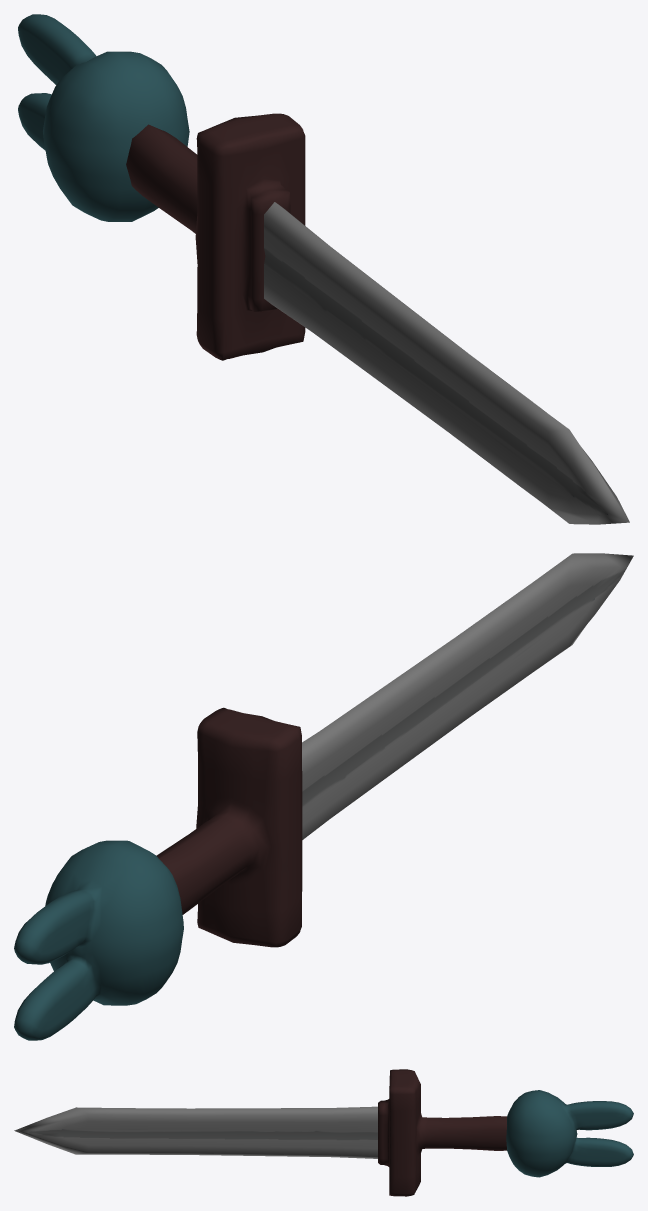
File: SwordWeapon.glb
The picture shows the model from 3 angles, top to bottom: view 1: azimuth 30°, elevation 25°; view 2: azimuth 150°, elevation 25°; view 3: azimuth 270°, elevation 25°; orthographic projection. The views are drawn at different scales.
Parts seen in each view (by area): view 1: Cube.007; view 2: Cube.007; view 3: Cube.007.
Boxes of the visible parts, bbox=[...] form: Cube.007: bbox=[18, 14, 629, 524]; Cube.007: bbox=[14, 553, 633, 1040]; Cube.007: bbox=[14, 1069, 633, 1196].
Bounding box in the file's own units: 0.7815 × 1.28 × 6.66.
Materials: 1 (1 with a texture image).
